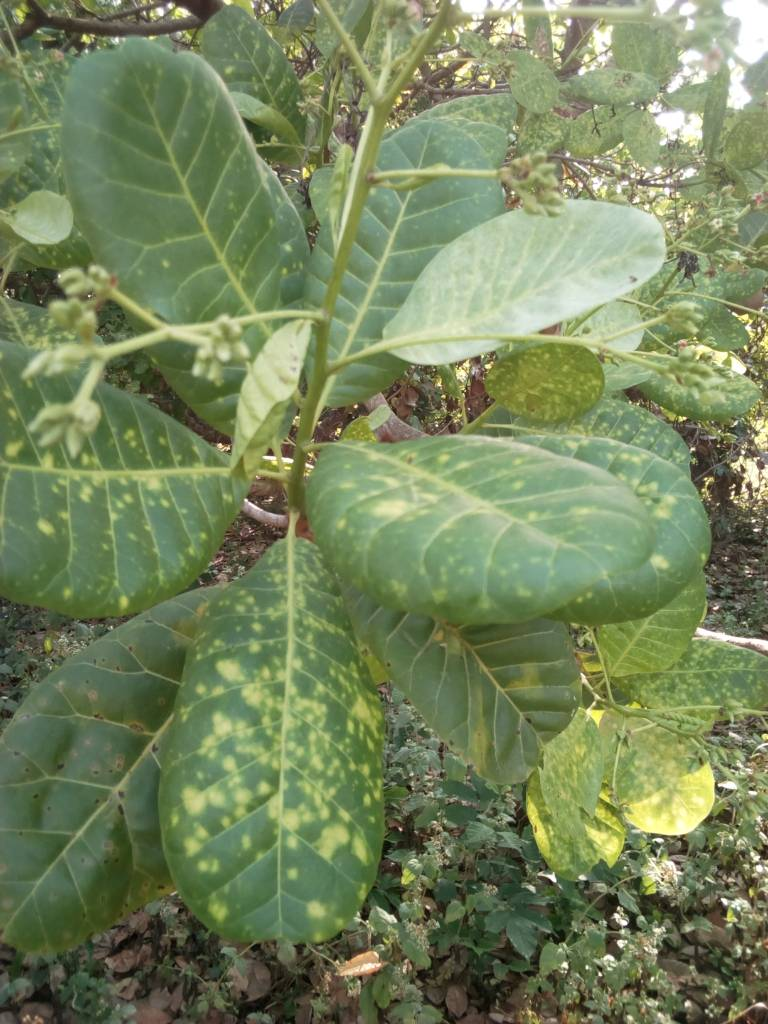Carence minérale: (163, 533, 430, 960), (52, 35, 333, 417), (1, 344, 258, 627), (318, 436, 668, 636)
